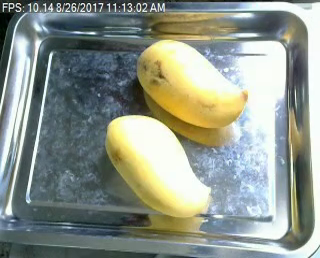Mango: (99, 111, 215, 223), (132, 36, 250, 128)
